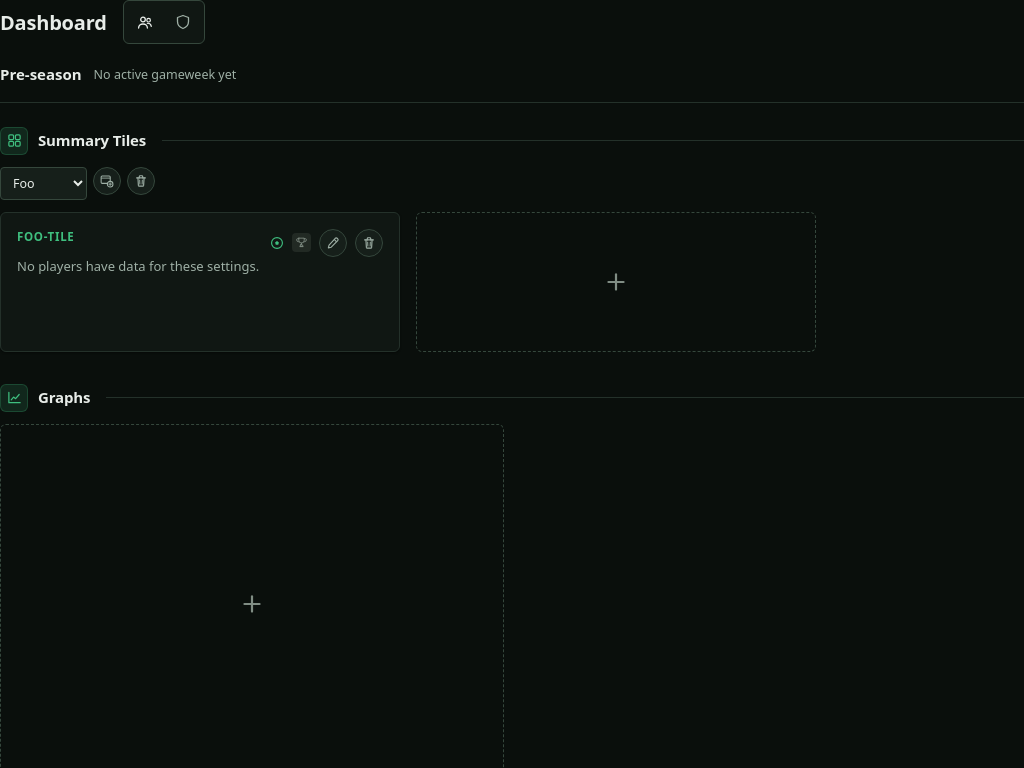
Dashboard saved views — working copy vs saved views (audit 2026-10-18) › [AUDIT8-1] deleting the selected view doesn't overwrite My View with the deleted view's tiles
Click the button named "Delete View" at (141, 181), box [127,167,155,195]
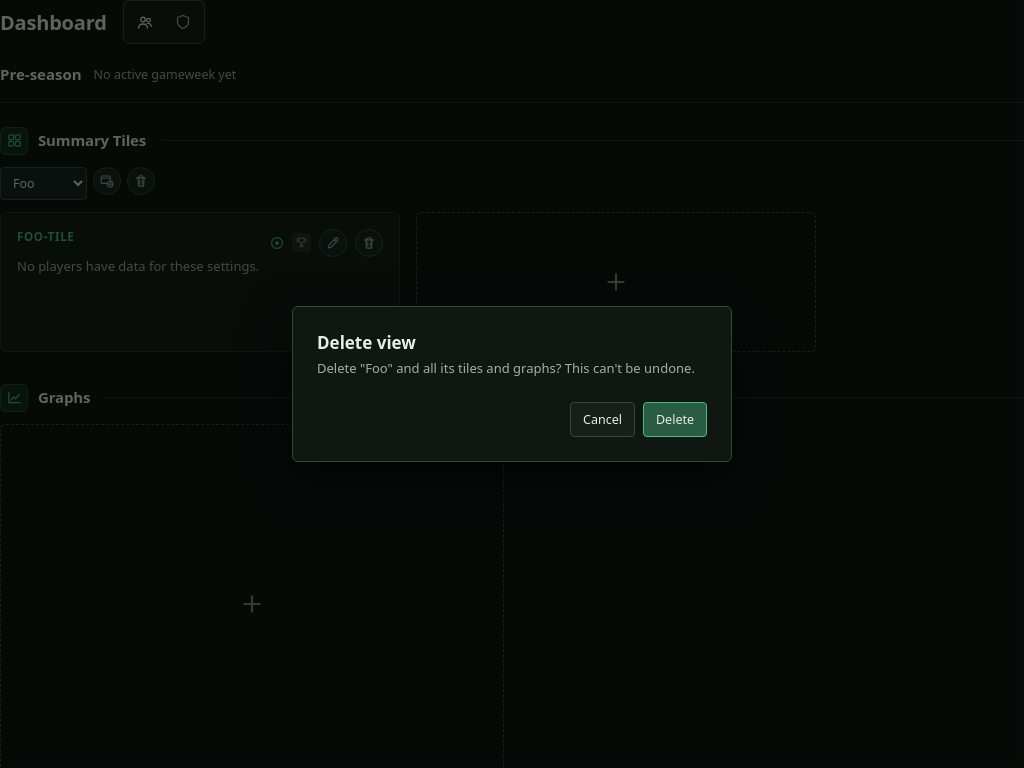
Click the button "Delete" at (675, 420), box [643,402,707,437]
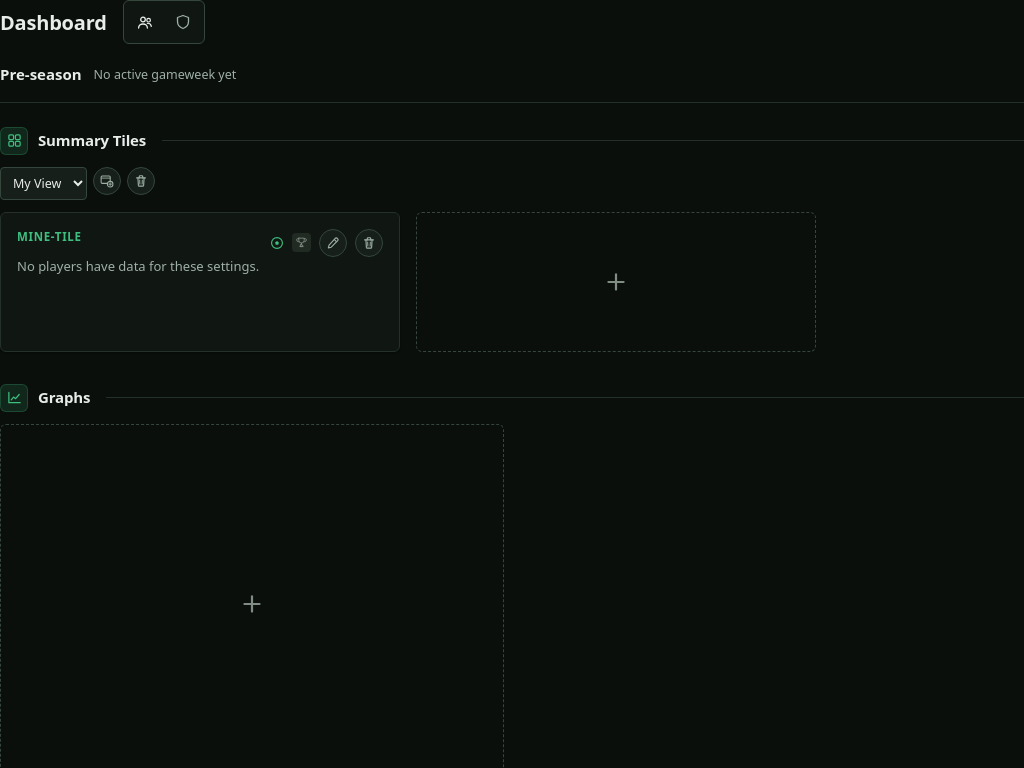
Expected: the dropdown named "Saved view" shows "My View", [0,167,87,200]
